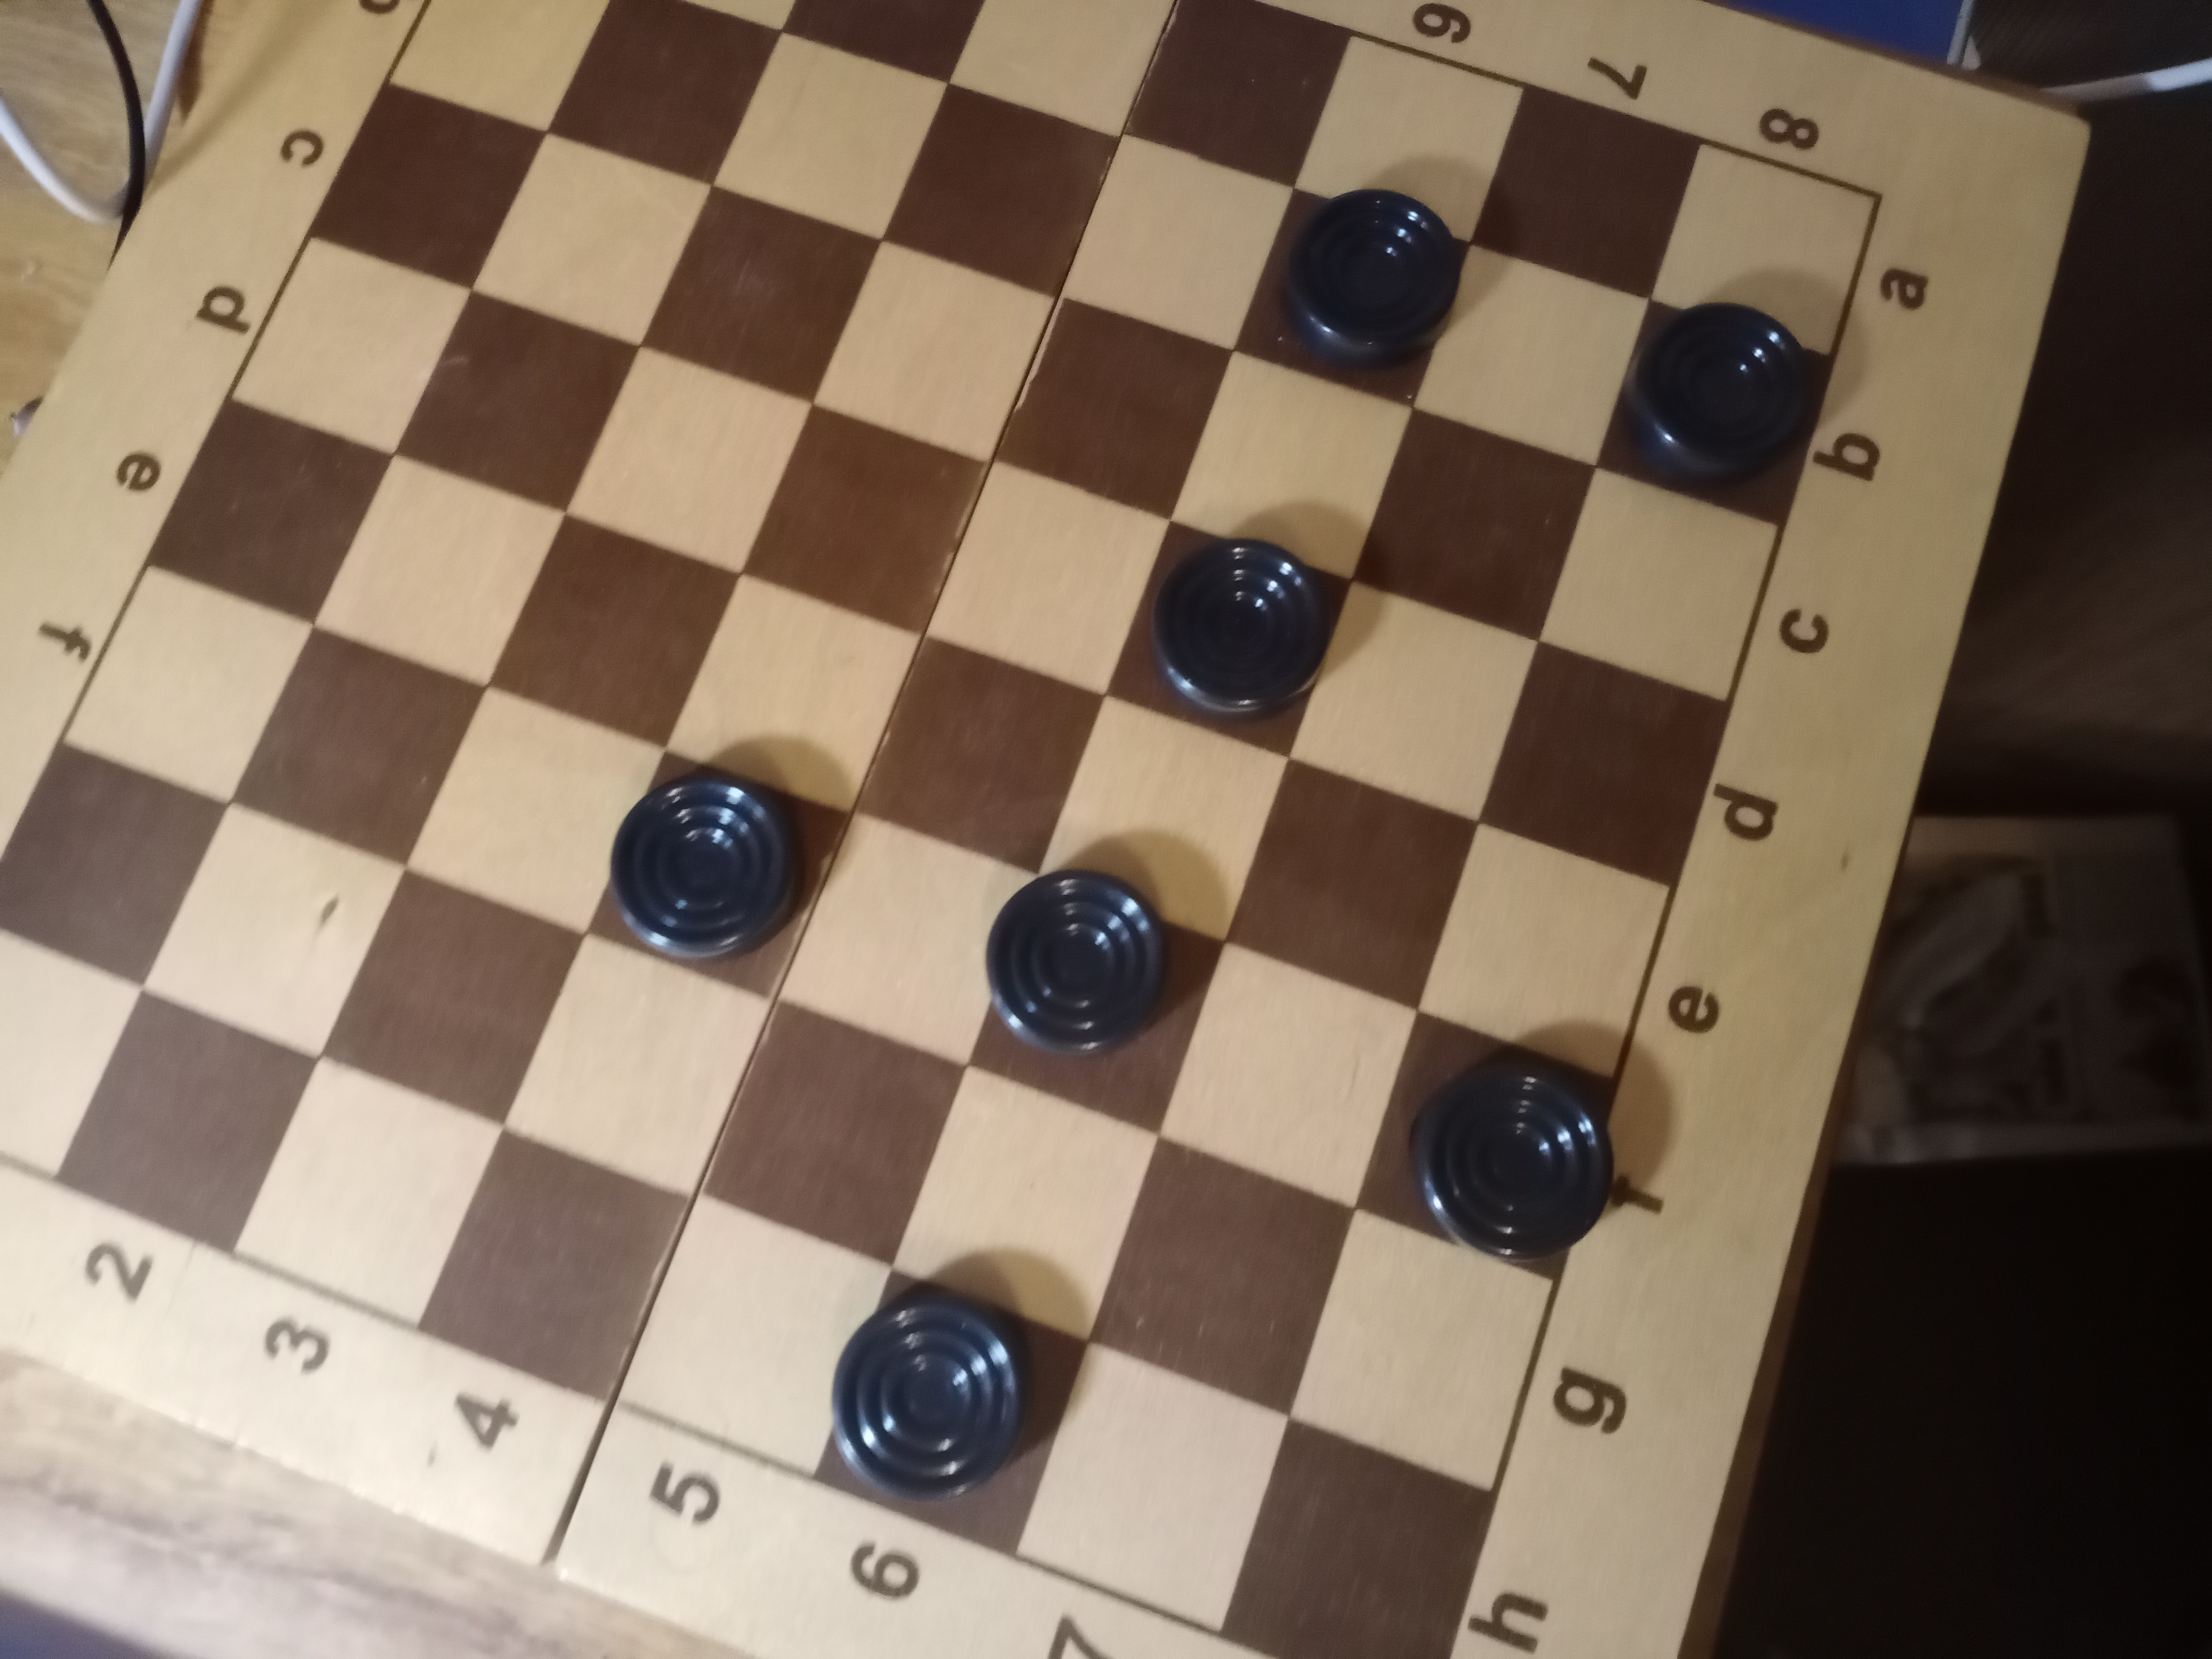Black_Draught: (810, 1270, 1089, 1554), (1353, 1014, 1616, 1288), (968, 873, 1228, 1136), (592, 751, 850, 1002), (1104, 521, 1353, 760), (1594, 301, 1831, 530), (1233, 186, 1470, 411)
